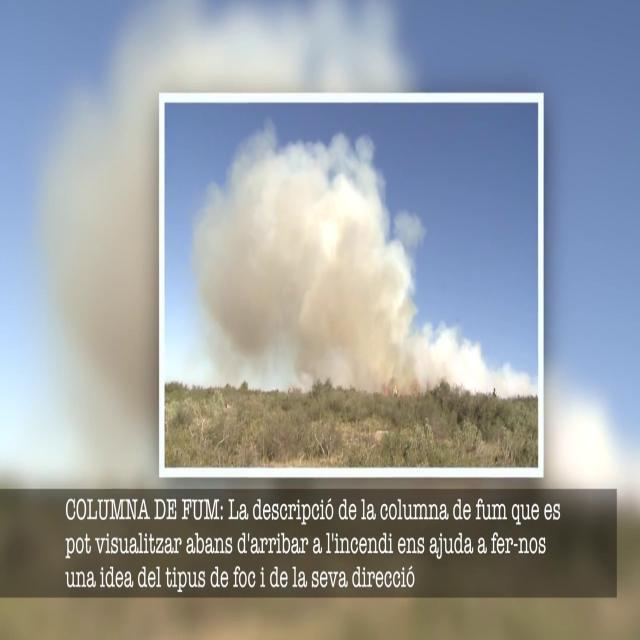Smoke: (189, 107, 433, 402), (6, 57, 162, 485)
